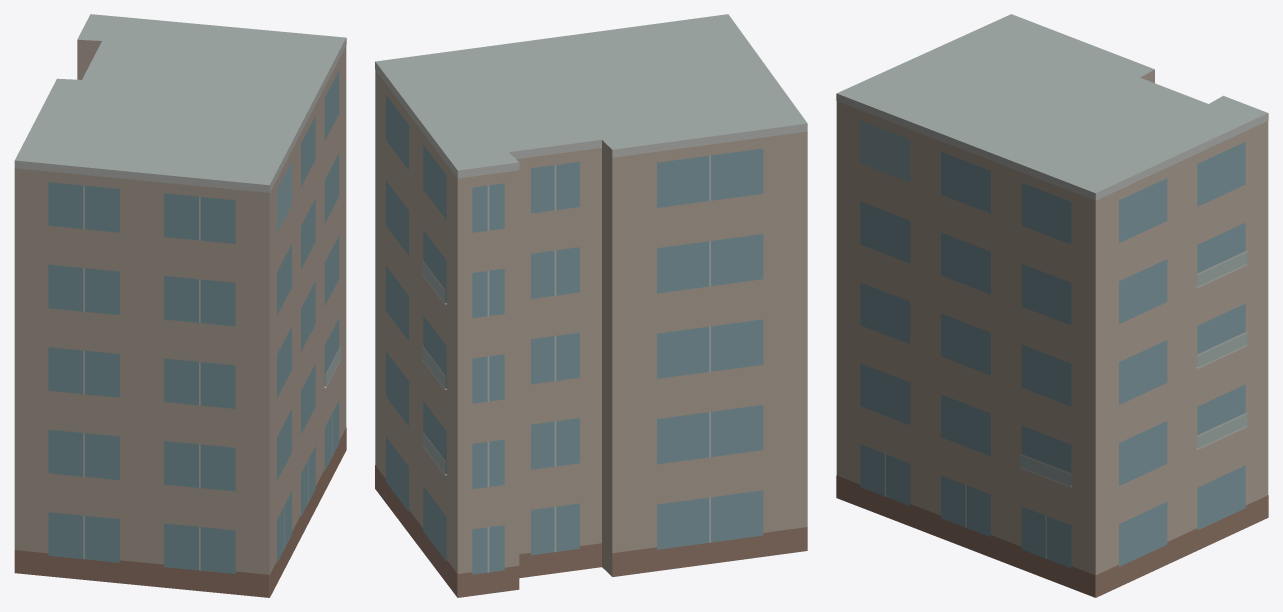
File: survey-upis-32712081.glb
3 renders of one model, left to right at view 1: azimuth 30°, elevation 25°; view 2: azimuth 150°, elevation 25°; view 3: azimuth 270°, elevation 25°, orthographic. The views are drawn at different scales.
Parts seen in each view (by area): view 1: survey-upis-32712081.tmp; view 2: survey-upis-32712081.tmp; view 3: survey-upis-32712081.tmp.
Part boxes in pixels (x1,y1,x2,y2): survey-upis-32712081.tmp: [14, 14, 346, 597]; survey-upis-32712081.tmp: [375, 14, 807, 597]; survey-upis-32712081.tmp: [836, 14, 1268, 597].
Bounding box in the file's own units: 12.44 × 13.08 × 12.66.
